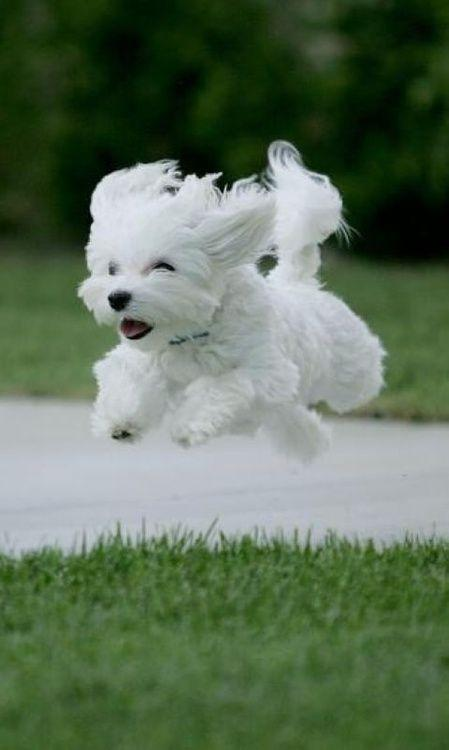puppy-dog: (70, 133, 394, 474)
